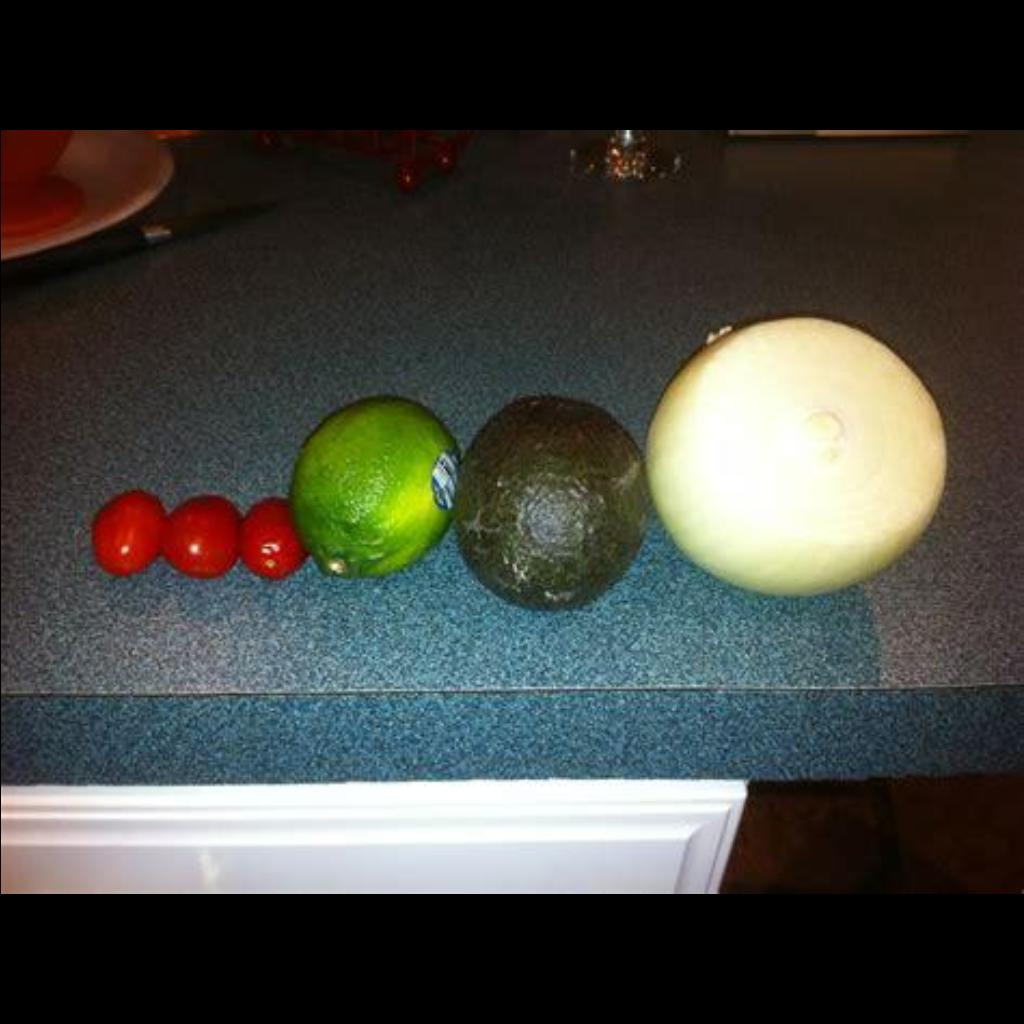Anthracnose: (442, 384, 652, 612)
